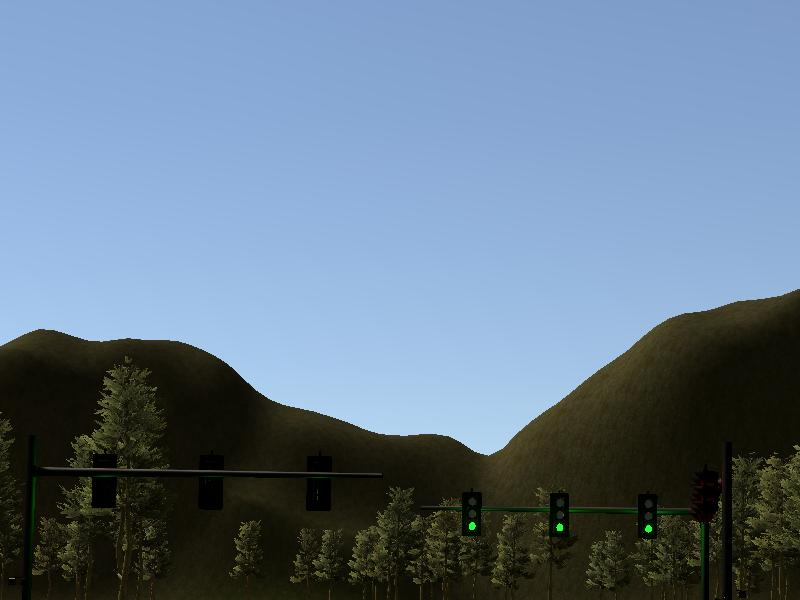Green: (461, 492, 482, 535), (549, 494, 569, 536), (638, 495, 656, 538)
